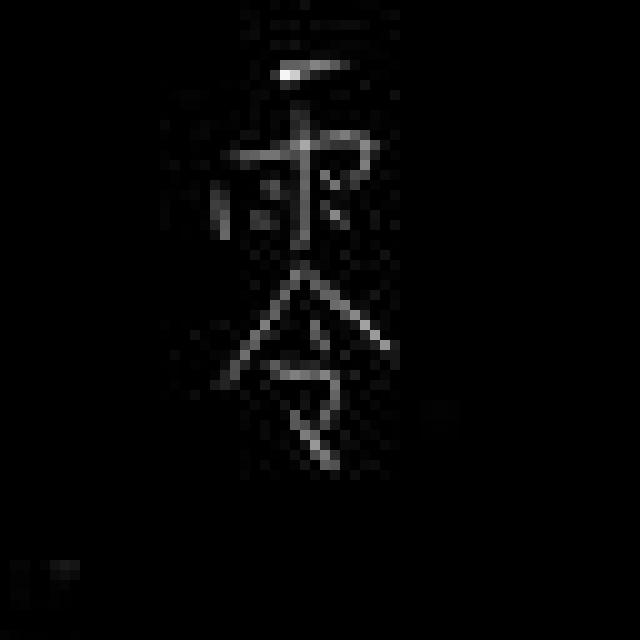0 -zero-: (190, 45, 395, 492)
